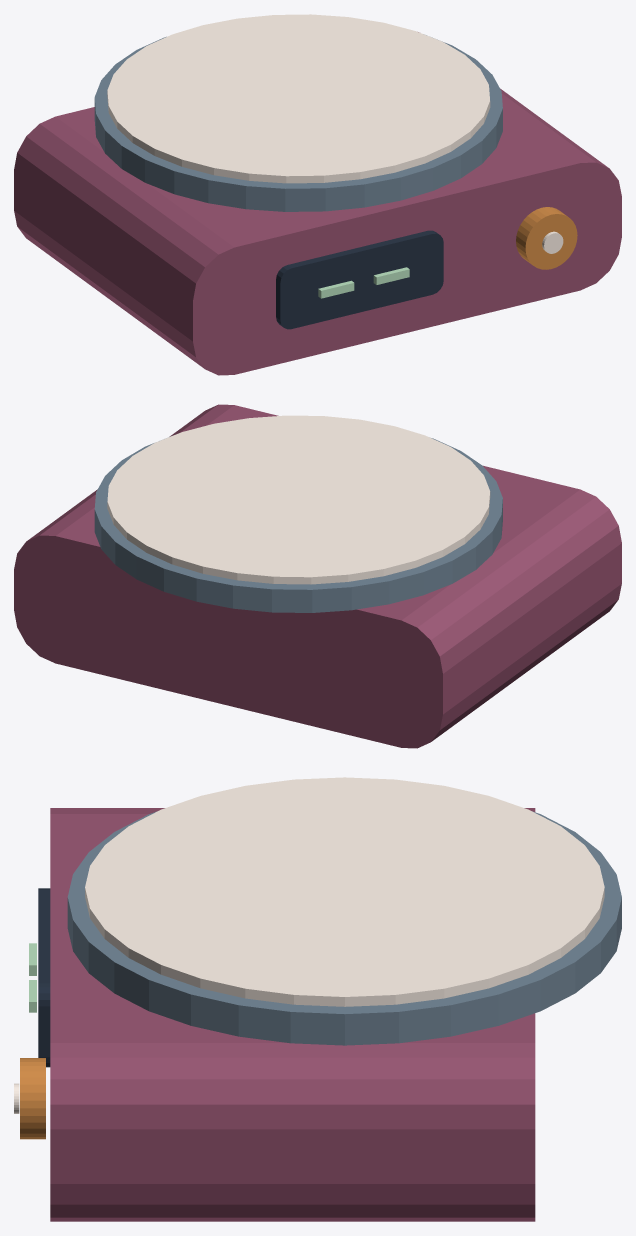
Rendered from scale.glb.
3 renders of one model, top to bottom at view 1: azimuth 30°, elevation 25°; view 2: azimuth 150°, elevation 25°; view 3: azimuth 270°, elevation 25°, orthographic. The views are drawn at different scales.
Parts seen in each view (by area): view 1: base, plate face, weighing plate, screen, tare key; view 2: base, plate face, weighing plate; view 3: base, plate face, weighing plate, screen, tare key.
Part boxes in pixels (x1,y1,x2,y2): base: (14,32,621,375); plate face: (107,14,490,183); weighing plate: (94,35,502,211); screen: (276,230,443,329); tare key: (516,207,577,269); base: (14,404,621,748); plate face: (107,415,490,584); weighing plate: (94,438,502,612); base: (50,808,535,1221); plate face: (85,777,604,1006); weighing plate: (67,811,621,1045); screen: (38,888,50,1067); tare key: (20,1058,45,1139).
Bounding box in the file's own units: 1.55 × 0.545 × 1.4.
